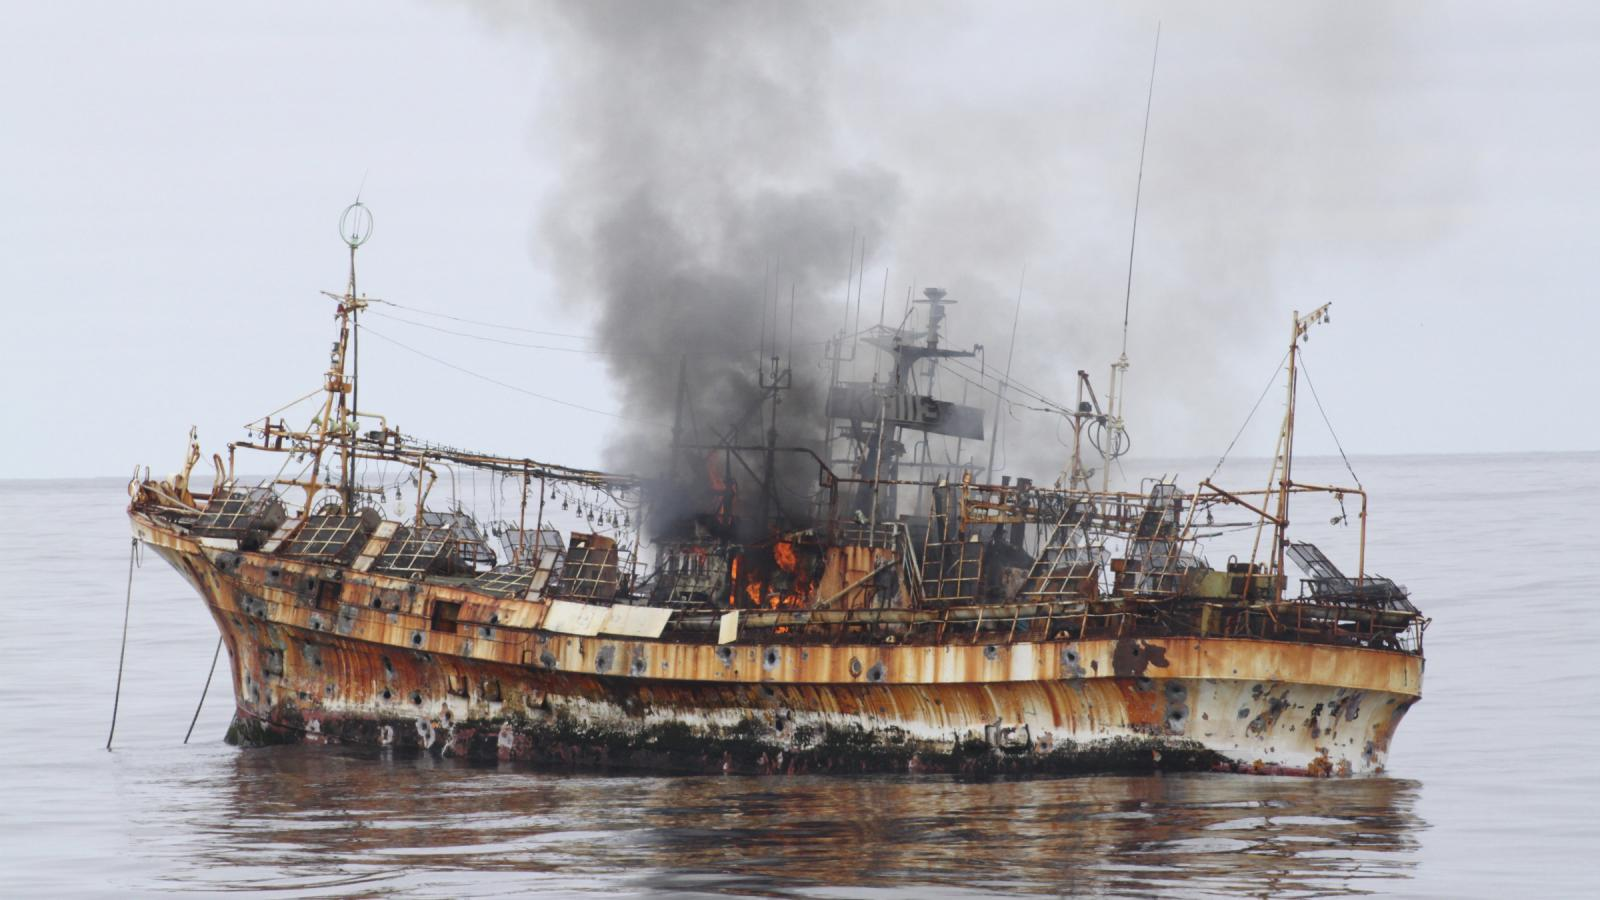rust: (571, 671, 895, 721), (326, 644, 546, 711), (1016, 686, 1186, 735), (616, 679, 757, 716)
